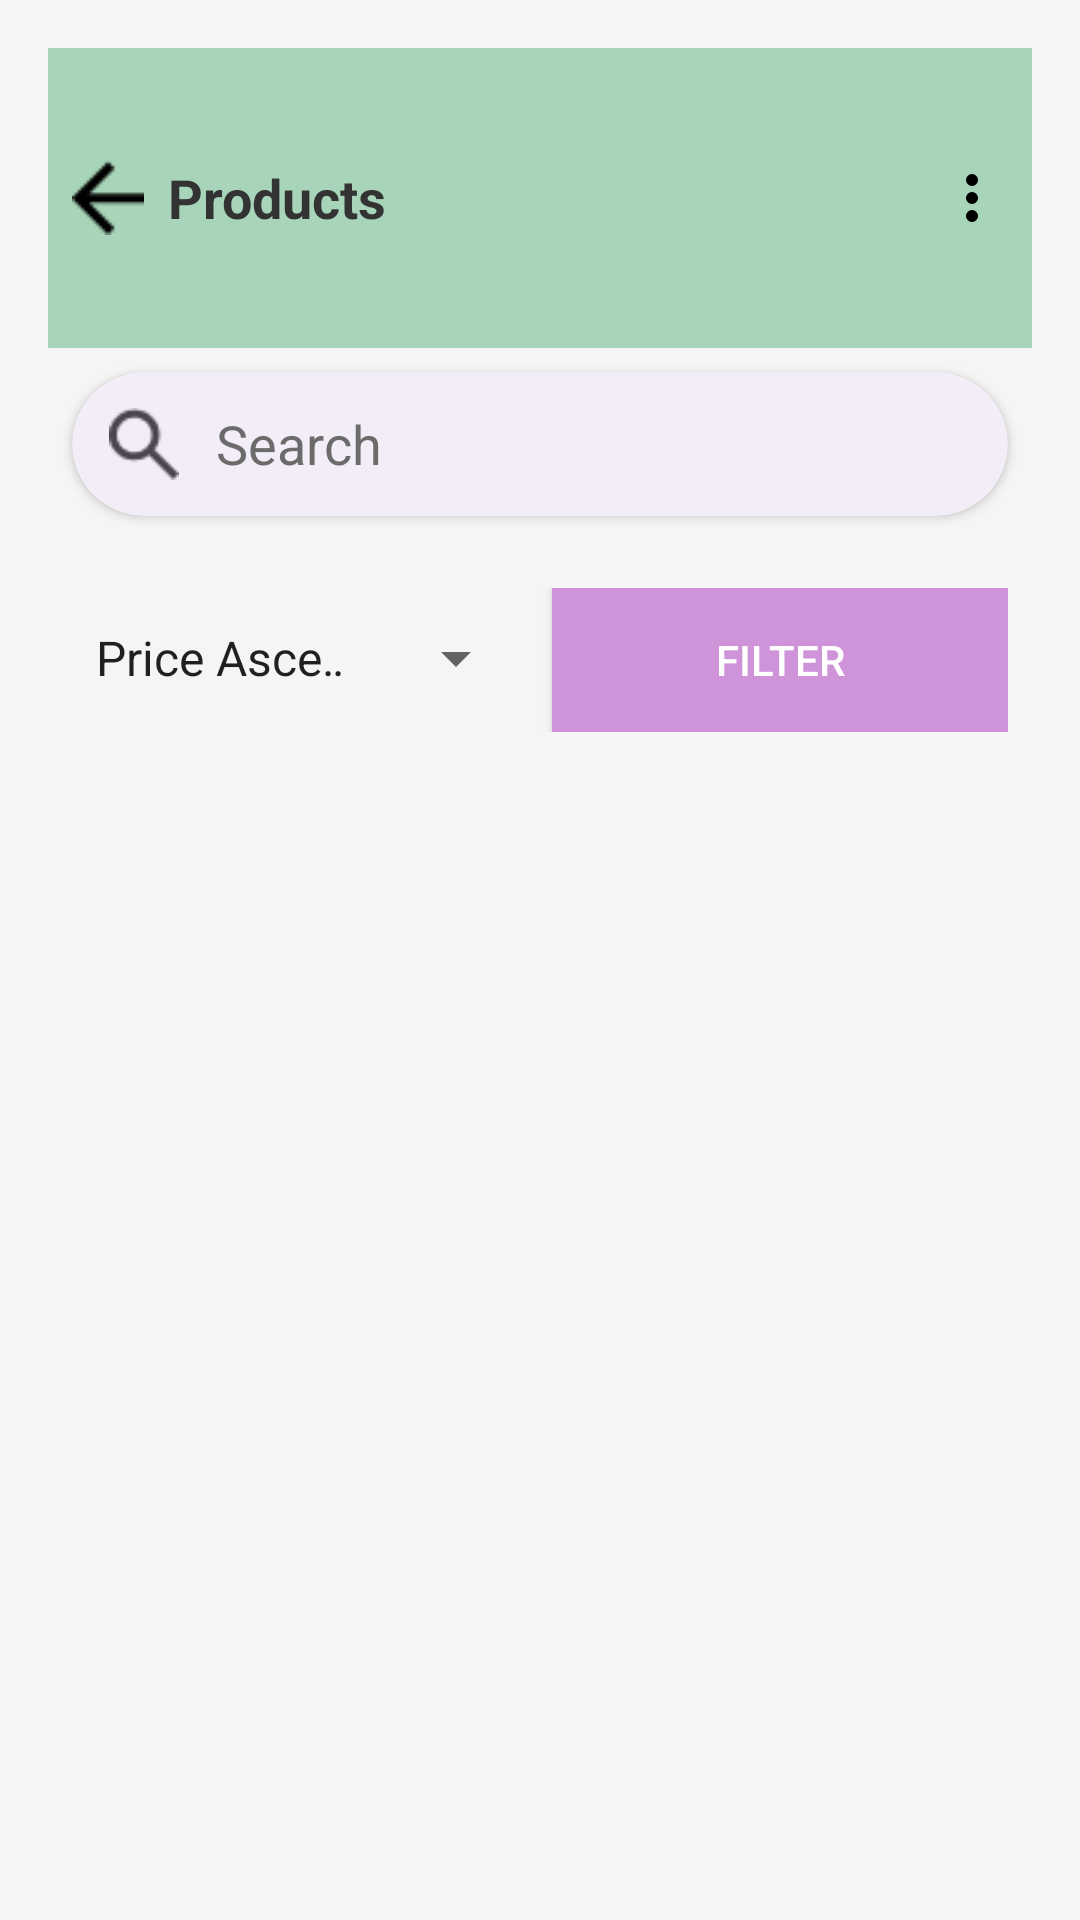

Icon click points for this 1080x1920 phone screenshot, format [x,y]:
Back: [108,198]
More: [972,198]
